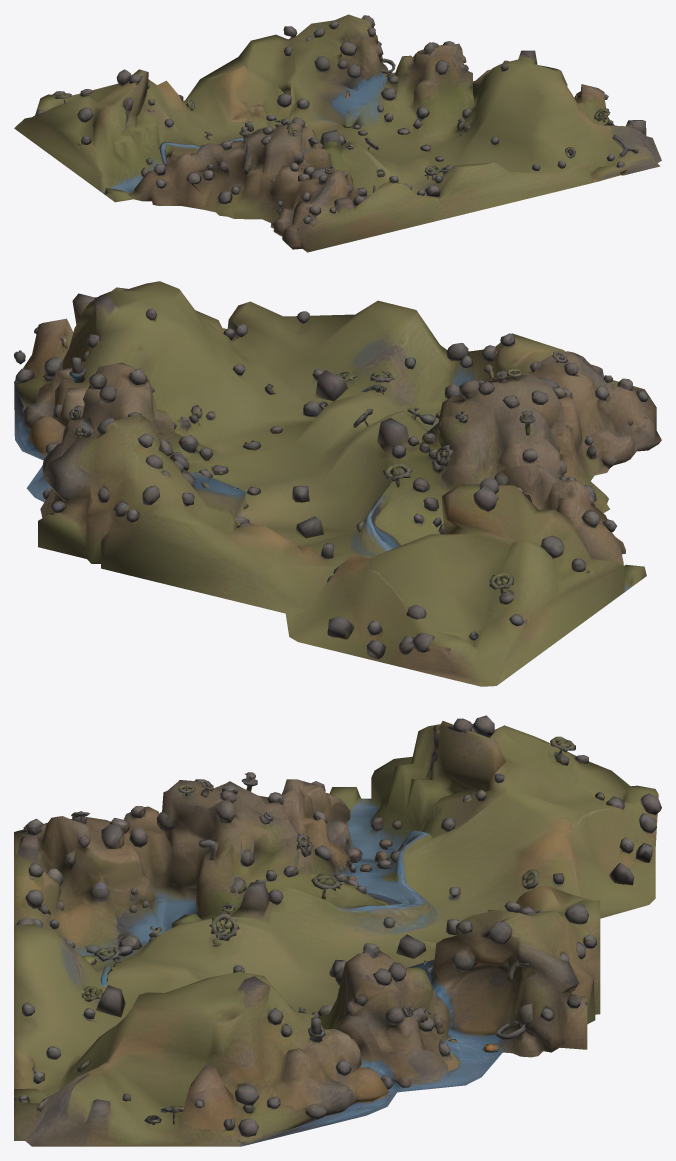
The model's file is VAL_Capital_Environment_Valley_A.glb.
The picture shows the model from 3 angles, top to bottom: view 1: azimuth 30°, elevation 25°; view 2: azimuth 150°, elevation 25°; view 3: azimuth 270°, elevation 25°; orthographic projection. The views are drawn at different scales.
Visible parts, largest first — view 1: tripo_node_6468bc26-2466-40e6-bcea-8c2397cc7710; view 2: tripo_node_6468bc26-2466-40e6-bcea-8c2397cc7710; view 3: tripo_node_6468bc26-2466-40e6-bcea-8c2397cc7710.
Part boxes in pixels (box(x1,y1,x2,y2)): tripo_node_6468bc26-2466-40e6-bcea-8c2397cc7710: box(14, 14, 661, 252); tripo_node_6468bc26-2466-40e6-bcea-8c2397cc7710: box(14, 281, 661, 686); tripo_node_6468bc26-2466-40e6-bcea-8c2397cc7710: box(14, 715, 661, 1146).
Size of the model in its own units: 0.998 by 0.1738 by 0.7793.
Materials: 1 (1 with a texture image).
